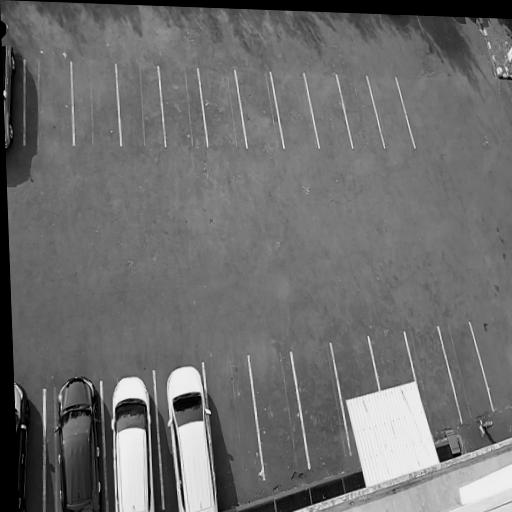Car: (161, 359, 221, 512), (50, 373, 103, 512), (108, 369, 157, 512), (1, 17, 18, 153), (14, 374, 30, 512)
Space Available: (249, 350, 310, 479), (204, 356, 264, 483), (291, 343, 349, 466), (438, 321, 493, 420), (406, 328, 461, 425), (115, 64, 167, 148), (72, 61, 120, 145), (3, 0, 51, 83), (159, 65, 208, 146), (236, 67, 282, 151), (199, 67, 246, 148), (304, 71, 352, 148), (336, 71, 384, 147), (270, 72, 317, 147), (368, 75, 415, 148), (332, 338, 378, 400), (370, 333, 414, 387)
